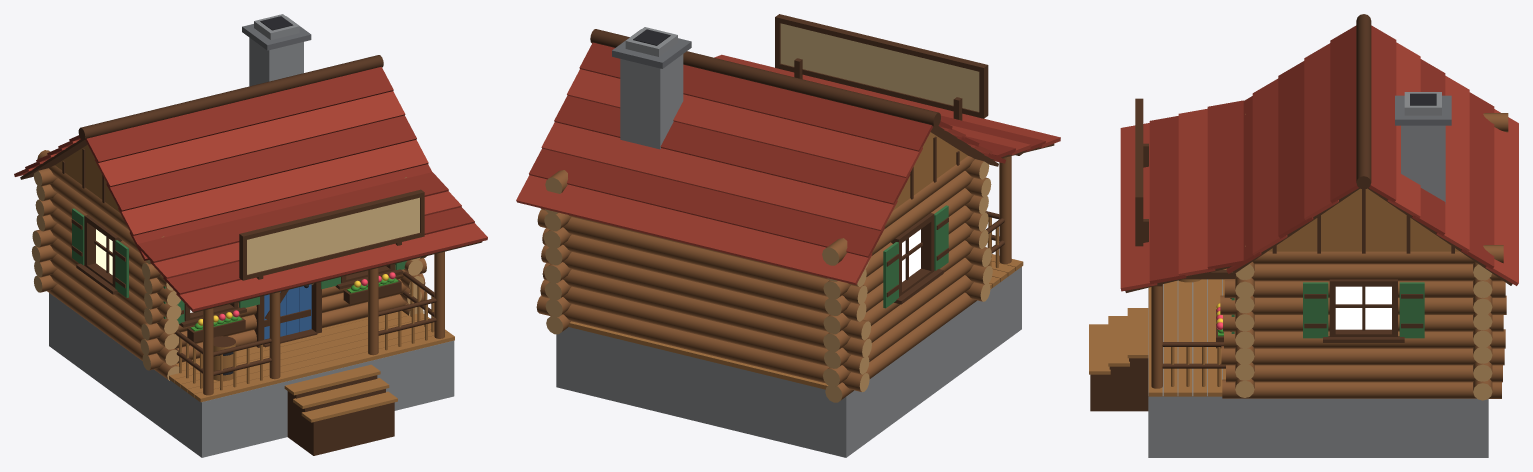
The model's file is cabana.glb.
3 views of the same model, side by side, from view 1: azimuth 30°, elevation 25°; view 2: azimuth 150°, elevation 25°; view 3: azimuth 270°, elevation 25° (orthographic). The views are drawn at different scales.
Visible parts, largest first — view 1: Techo_Frente, Base, Techo_Porche, Pared_Derecha, Letrero, Porche_Piso, Escaleras, Pared_Frente, Cumbrera, Porche_Postes, Chimenea, Porche_Baranda (+13 smaller); view 2: Techo_Atras, Pared_Atras, Base, Pared_Derecha, Letrero, Chimenea, Cumbrera, Techo_Porche, Pared_Izquierda, Pared_Frente, Ventana_Derecha, Hastial_Derecho (+6 smaller); view 3: Pared_Izquierda, Base, Techo_Atras, Techo_Porche, Techo_Frente, Hastial_Izquierdo, Porche_Piso, Escaleras, Chimenea, Ventana_Izquierda, Contraventanas_Izquierda, Cumbrera (+5 smaller).
Part boxes in pixels (<box>): Techo_Frente: <box>85,66,431,260</box>; Base: <box>49,293,454,457</box>; Techo_Porche: <box>137,172,487,312</box>; Pared_Derecha: <box>37,150,181,380</box>; Letrero: <box>239,189,424,280</box>; Porche_Piso: <box>169,311,454,402</box>; Escaleras: <box>284,364,397,455</box>; Pared_Frente: <box>140,256,426,370</box>; Cumbrera: <box>78,55,383,140</box>; Porche_Postes: <box>203,251,444,395</box>; Chimenea: <box>242,14,311,86</box>; Porche_Baranda: <box>174,271,436,390</box>; Techo_Atras: <box>516,42,932,284</box>; Pared_Atras: <box>536,208,871,392</box>; Base: <box>556,267,1021,457</box>; Pared_Derecha: <box>822,156,976,402</box>; Letrero: <box>775,14,988,120</box>; Chimenea: <box>612,27,691,149</box>; Cumbrera: <box>590,29,940,127</box>; Techo_Porche: <box>714,54,1060,160</box>; Pared_Izquierda: <box>543,170,571,334</box>; Pared_Frente: <box>965,159,992,301</box>; Ventana_Derecha: <box>891,213,943,304</box>; Hastial_Derecho: <box>893,132,967,210</box>; Pared_Izquierda: <box>1220,245,1506,398</box>; Base: <box>1148,279,1488,457</box>; Techo_Atras: <box>1368,25,1518,285</box>; Techo_Porche: <box>1120,100,1243,292</box>; Techo_Frente: <box>1226,25,1359,273</box>; Hastial_Izquierdo: <box>1268,188,1459,253</box>; Porche_Piso: <box>1148,268,1226,396</box>; Escaleras: <box>1089,308,1148,411</box>; Chimenea: <box>1395,92,1451,203</box>; Ventana_Izquierda: <box>1323,279,1404,342</box>; Contraventanas_Izquierda: <box>1303,282,1424,338</box>; Cumbrera: <box>1356,14,1371,189</box>.
Bounding box in the file's own units: 5.16 × 4.89 × 5.78.
